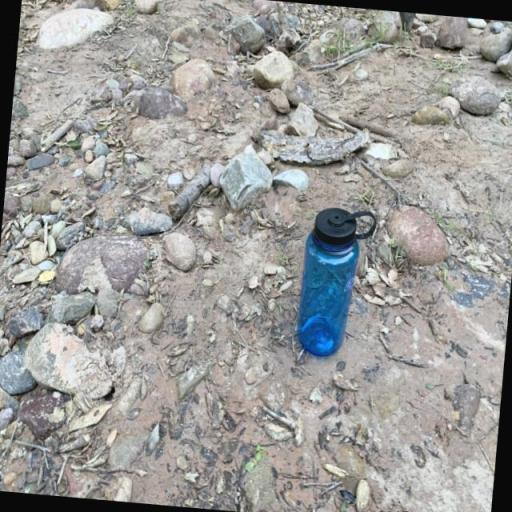bottle: (295, 204, 379, 362)
